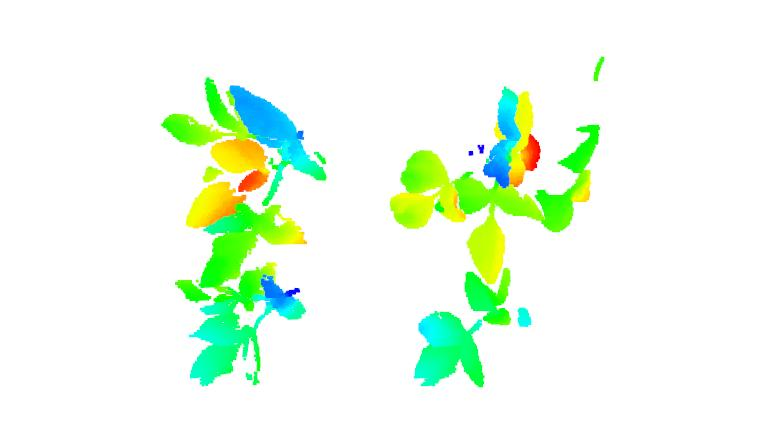mungbean: (389, 86, 601, 281), (165, 75, 329, 280), (175, 263, 313, 391), (411, 272, 534, 390)
